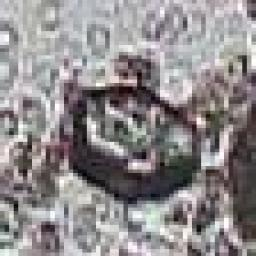crystals: (69, 86, 192, 194)
